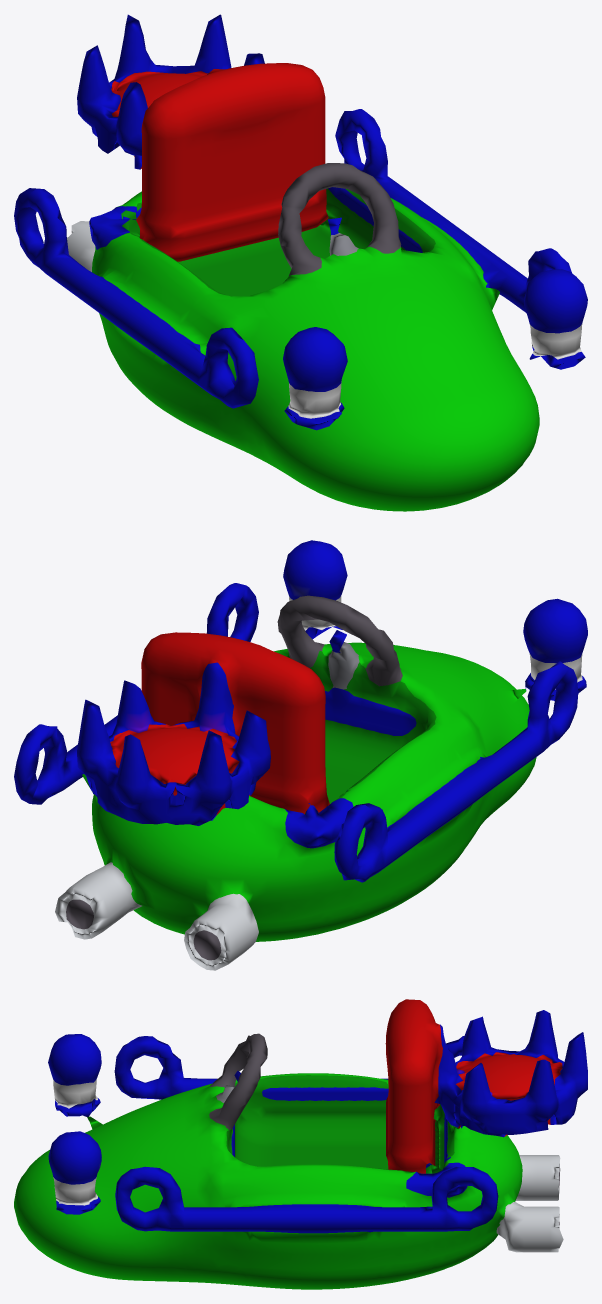
Rendered from body_coach.glb.
The picture shows the model from 3 angles, top to bottom: view 1: azimuth 30°, elevation 25°; view 2: azimuth 150°, elevation 25°; view 3: azimuth 270°, elevation 25°; orthographic projection. The views are drawn at different scales.
Parts seen in each view (by area): view 1: body_coach; view 2: body_coach; view 3: body_coach.
Boxes of the visible parts, x1,y1,x2,y2 form: body_coach: (14, 14, 587, 511); body_coach: (14, 540, 587, 970); body_coach: (14, 999, 587, 1289).
Size of the model in its own units: 24.32 by 19.86 by 42.28.
